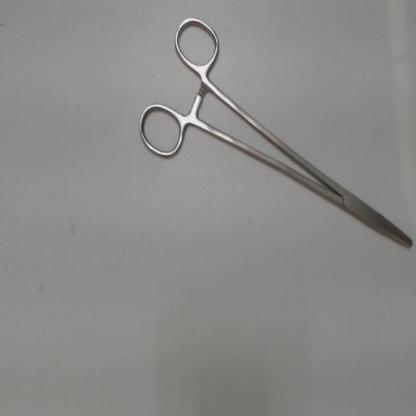8 Mayo Needle Holder: (128, 6, 415, 261)
